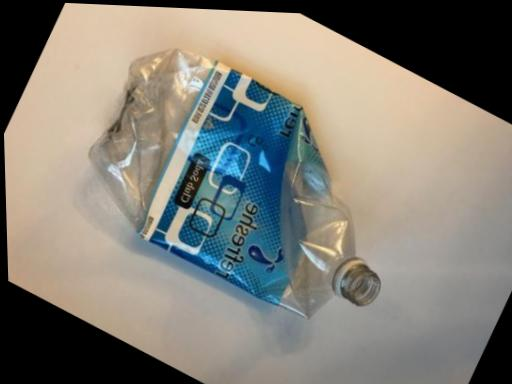plastic: (6, 5, 422, 383)
